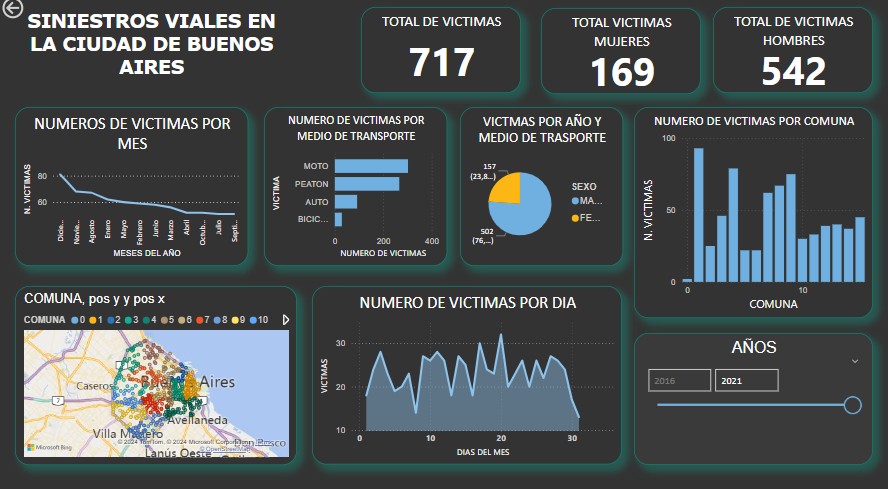

What the dashboard file says about the page in this screenshot:
{"tool":"powerbi","page":{"name":"DASHBORD","canvas":[1280,720],"ordinal":2},"visuals":[{"type":"card","title":"TOTAL DE VICTIMAS HOMBRES","fields":{"Values":["Sum(homicidios_hechos2.N_VICTIMAS)"]},"box":[1028.6,18.7,230.4,123.8],"z":0},{"type":"clusteredBarChart","title":"NUMERO DE VICTIMAS POR MEDIO DE TRANSPORTE","fields":{"Category":["homicidios_hechos2.VICTIMA"],"Y":["Sum(homicidios_hechos2.N_VICTIMAS)"]},"box":[381.6,162.7,263.5,229],"z":1000},{"type":"lineChart","title":"NUMERO DE VICTIMAS POR DIA","fields":{"Y":["Sum(homicidios_hechos2.N_VICTIMAS)"],"Category":["homicidios_hechos2.DD"]},"box":[451.3,421.1,446.2,256.7],"z":2000},{"type":"clusteredColumnChart","title":"NUMERO DE VICTIMAS POR COMUNA","fields":{"Category":["homicidios_hechos2.COMUNA"],"Y":["Sum(homicidios_hechos2.N_VICTIMAS)"]},"box":[914.4,162.7,344.2,303.8],"z":3000},{"type":"lineChart","title":"NUMEROS DE VICTIMAS POR MES","fields":{"Y":["Sum(homicidios_hechos2.N_VICTIMAS)"],"Category":["homicidios_hechos2.Name_Mes"]},"box":[22.4,162.7,335.5,229],"z":4000},{"type":"map","fields":{"Y":["homicidios_hechos2.pos y"],"X":["homicidios_hechos2.pos x"],"Series":["homicidios_hechos2.COMUNA"]},"box":[23,420.5,406.1,257.8],"z":5000},{"type":"textbox","box":[30.2,17.3,378.7,109.4],"z":6000},{"type":"pieChart","title":"VICTMAS POR AÑO Y MEDIO DE TRASPORTE","fields":{"Y":["Sum(homicidios_hechos2.N_VICTIMAS)"],"Category":["homicidios_victimas2.SEXO"]},"box":[663.2,162.7,234.7,229],"z":7000},{"type":"card","title":"TOTAL DE VICTIMAS","fields":{"Values":["Sum(homicidios_hechos2.N_VICTIMAS)"]},"box":[521.7,18.7,230.4,123.8],"z":8000},{"type":"card","title":"TOTAL VICTIMAS MUJERES","fields":{"Values":["Sum(homicidios_hechos2.N_VICTIMAS)"]},"box":[780.5,20.2,230.4,123.8],"z":9000},{"type":"actionButton","box":[0,0,100,40],"z":10000},{"type":"slicer","title":"AÑOS","fields":{"Values":["homicidios_hechos2.AAAA"]},"box":[914.3,488.2,343.9,189.6],"z":11000}]}

Visuals, with their boxes in screenshot pixels (x1, y1, x2, y2), scaled from the page's 1280x720 canvas onto the 888x489 screenshot:
"TOTAL DE VICTIMAS HOMBRES" card: box=[714, 13, 873, 97]
"NUMERO DE VICTIMAS POR MEDIO DE TRANSPORTE" clusteredBarChart: box=[265, 111, 448, 266]
"NUMERO DE VICTIMAS POR DIA" lineChart: box=[313, 286, 623, 460]
"NUMERO DE VICTIMAS POR COMUNA" clusteredColumnChart: box=[634, 111, 873, 317]
"NUMEROS DE VICTIMAS POR MES" lineChart: box=[16, 111, 248, 266]
map - homicidios_hechos2.pos y x homicidios_hechos2.pos x: box=[16, 286, 298, 461]
textbox: box=[21, 12, 284, 86]
"VICTMAS POR AÑO Y MEDIO DE TRASPORTE" pieChart: box=[460, 111, 623, 266]
"TOTAL DE VICTIMAS" card: box=[362, 13, 522, 97]
"TOTAL VICTIMAS MUJERES" card: box=[541, 14, 701, 98]
actionButton: box=[0, 0, 69, 27]
"AÑOS" slicer: box=[634, 332, 873, 460]
